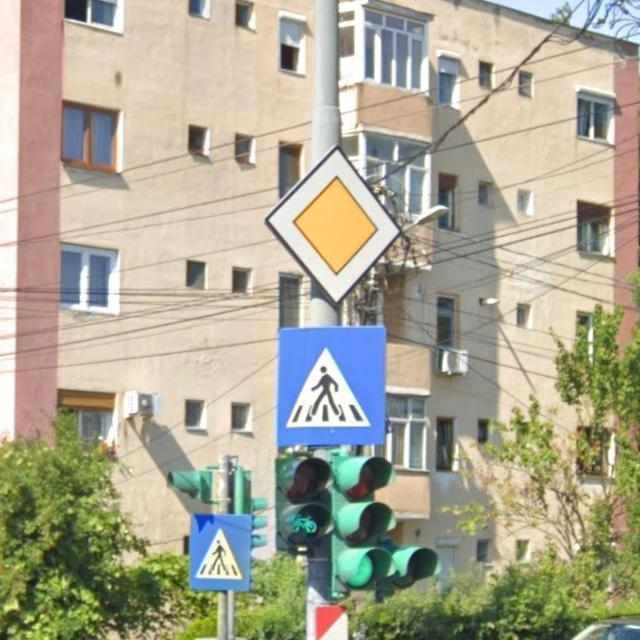info_crosswalk: (275, 325, 386, 445), (189, 513, 251, 590)
